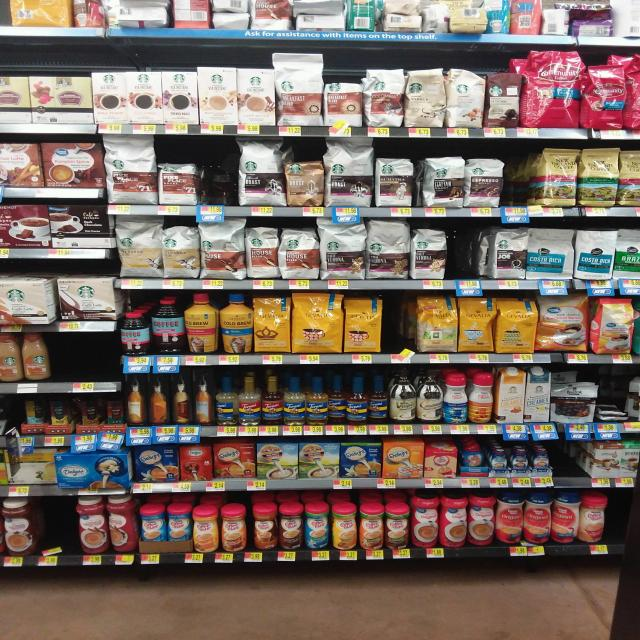void: (57, 332, 117, 378), (41, 502, 74, 554), (453, 223, 484, 278), (506, 149, 534, 206), (388, 297, 413, 350), (609, 492, 634, 539), (557, 445, 589, 481)
